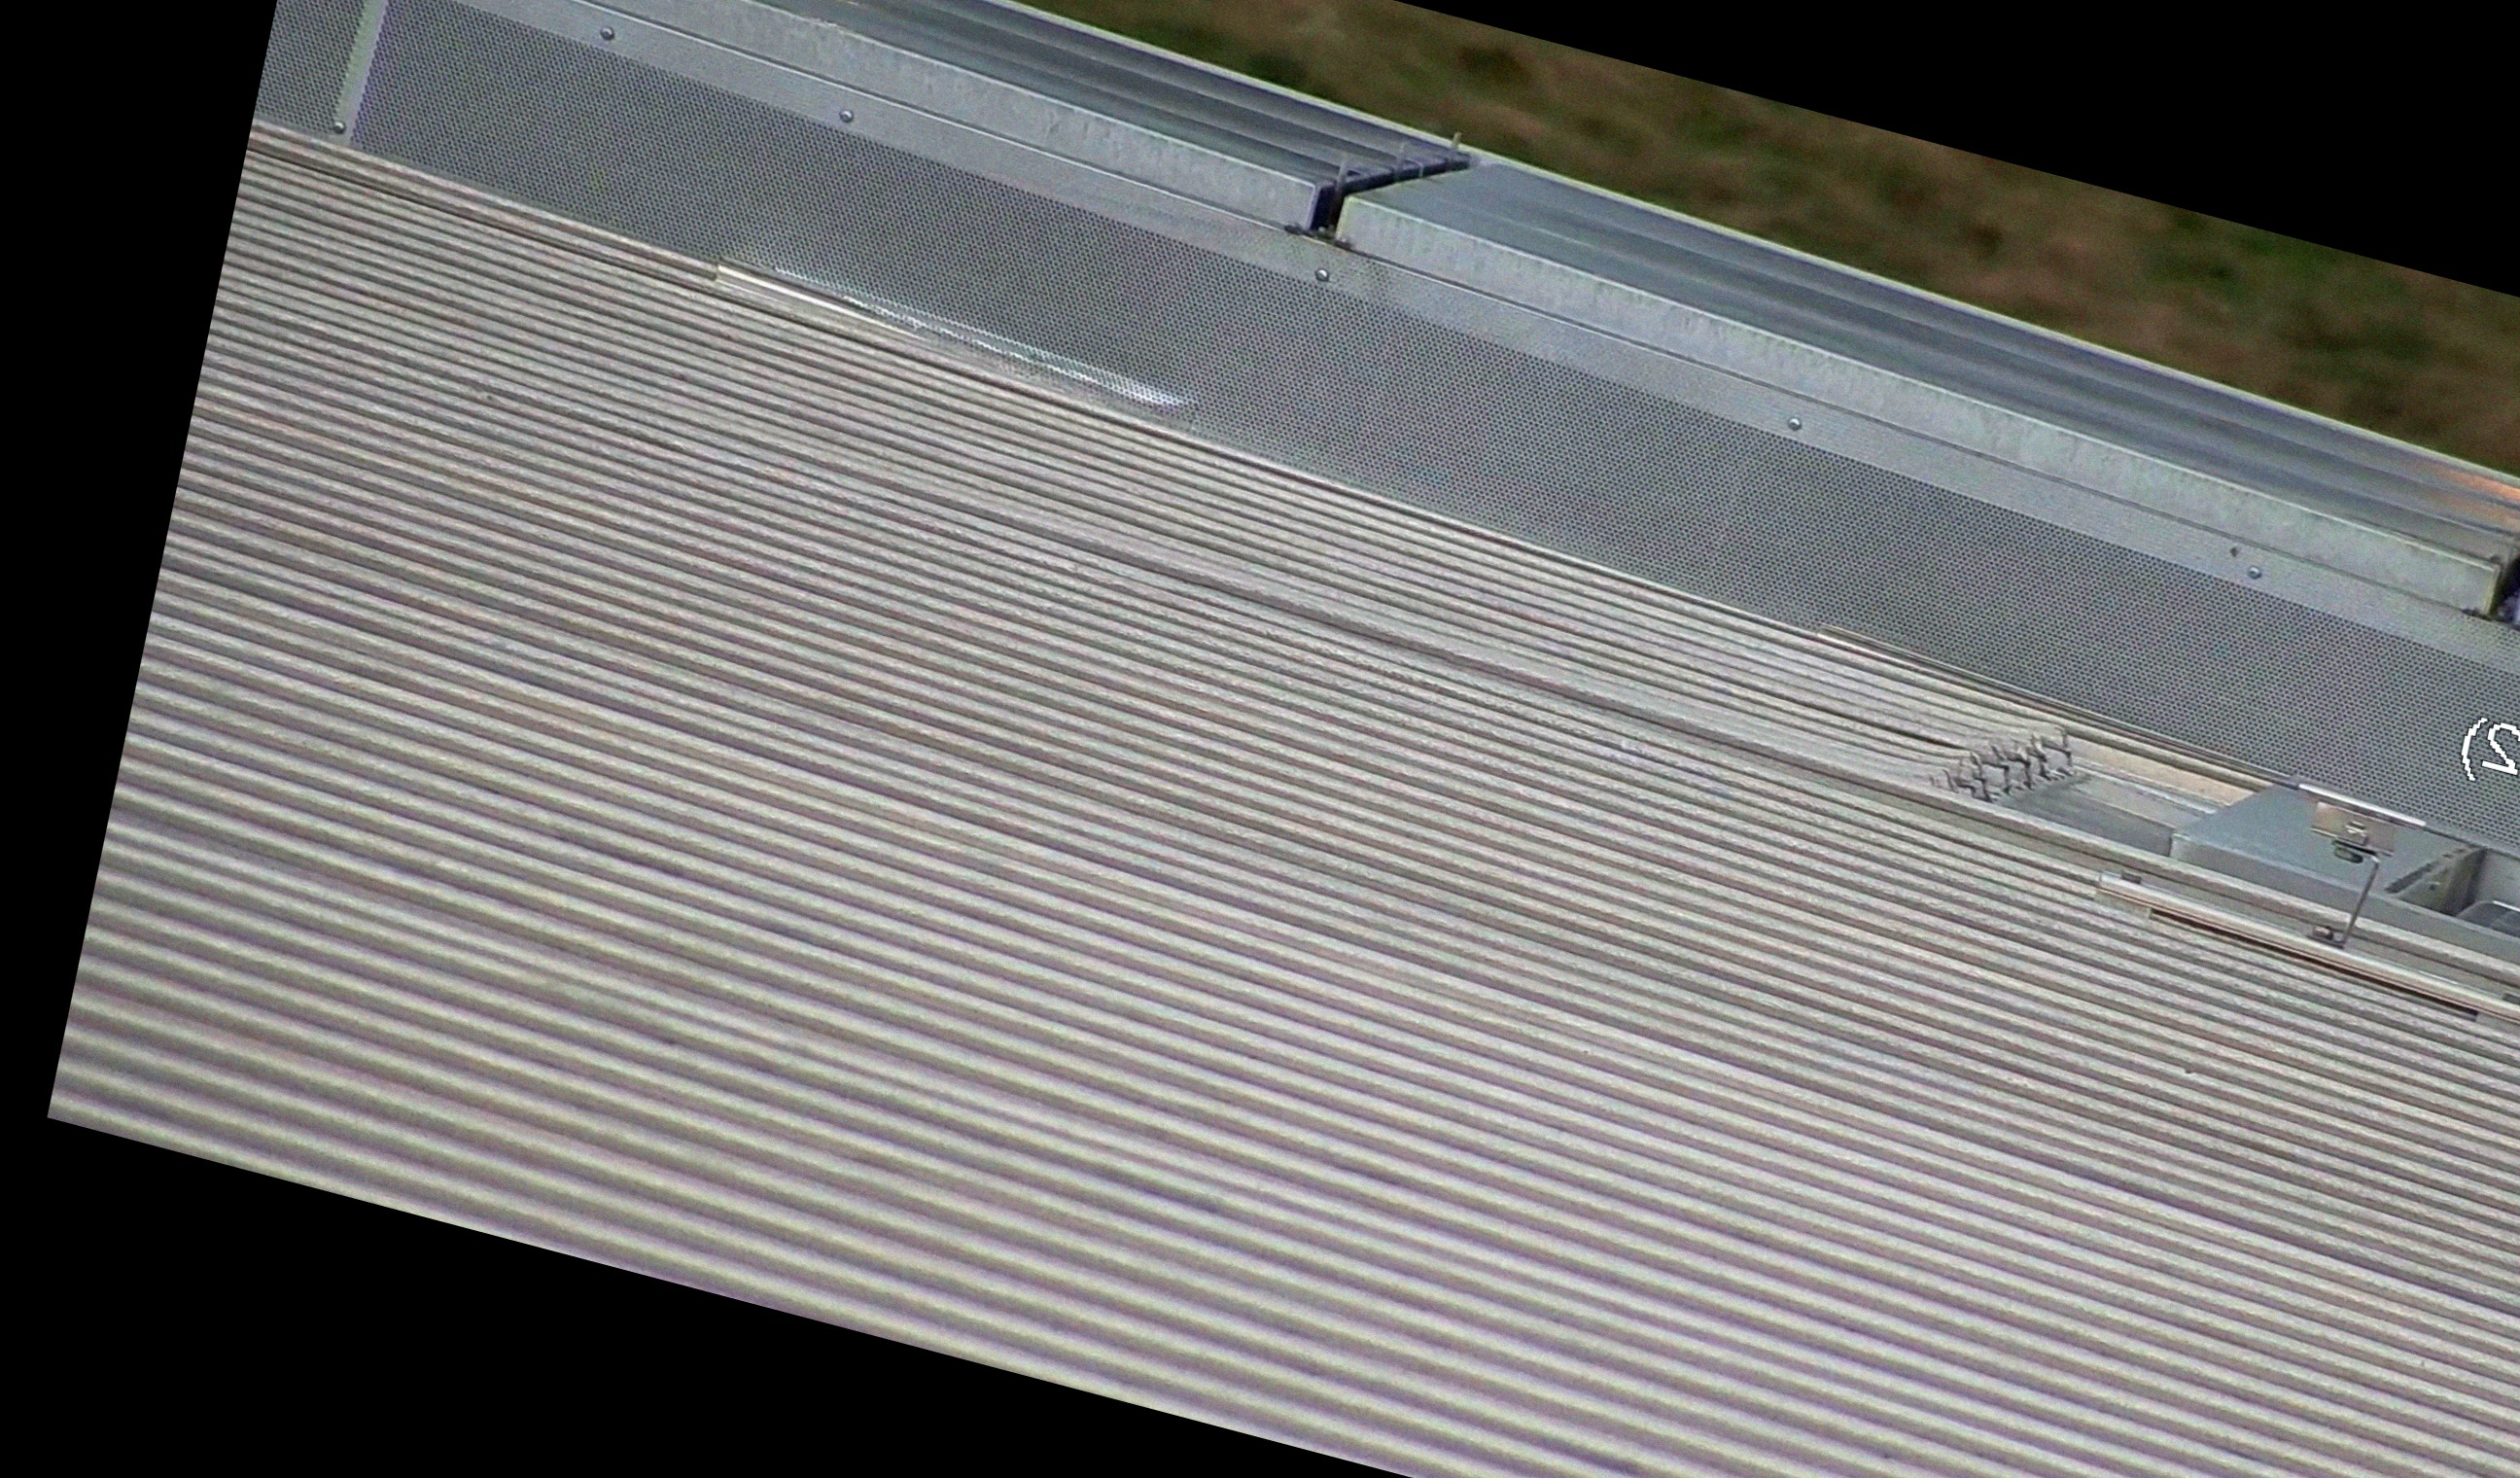Other: (2469, 459, 2520, 648)
